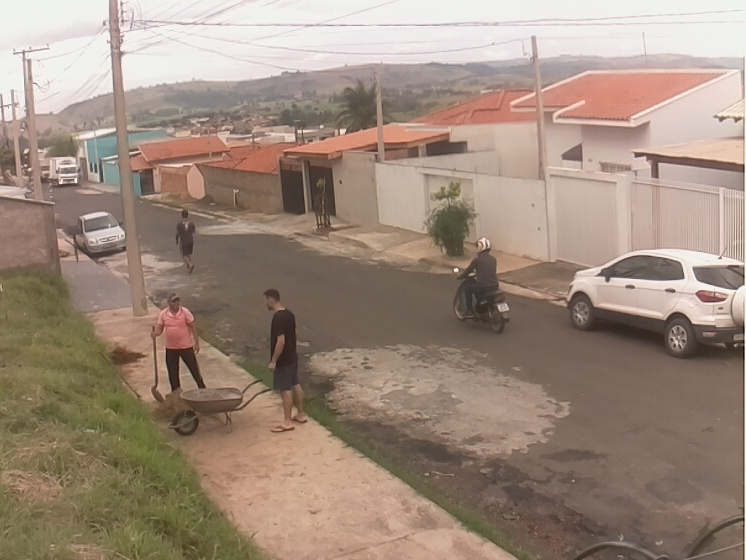person: (261, 287, 309, 435), (153, 291, 208, 393), (460, 238, 498, 321), (174, 208, 198, 274)
